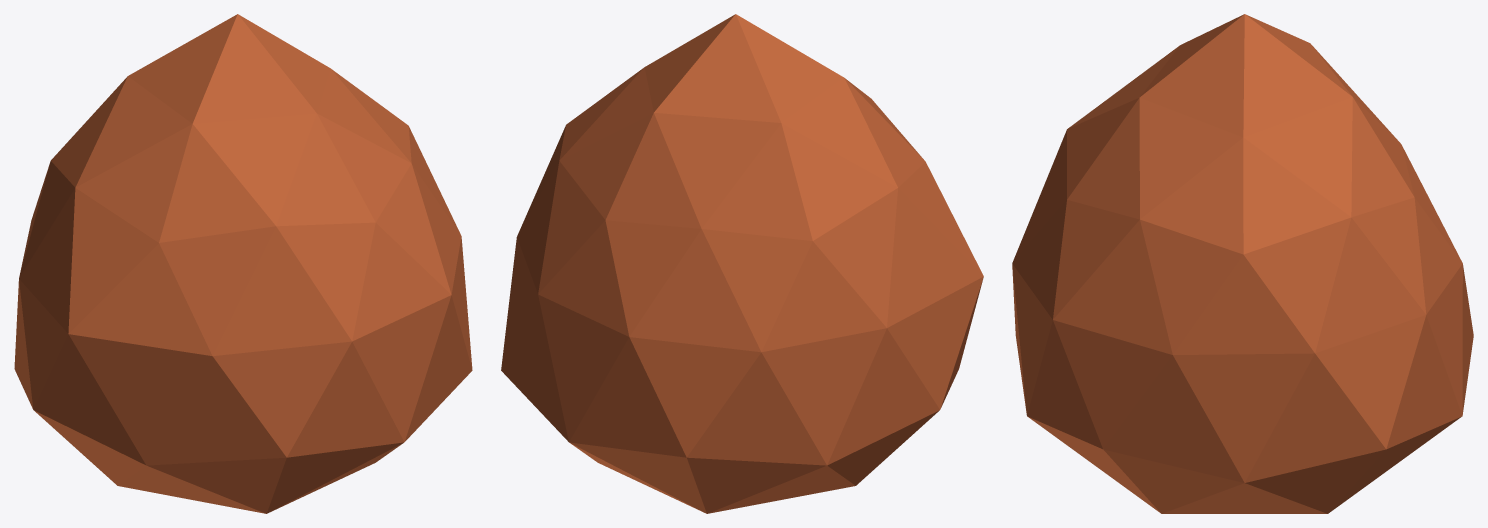
The model's file is Nut.fbx.
3 views of the same model, side by side, from view 1: azimuth 30°, elevation 25°; view 2: azimuth 150°, elevation 25°; view 3: azimuth 270°, elevation 25° (orthographic). The views are drawn at different scales.
Parts seen in each view (by area): view 1: Walnut_LOD0; view 2: Walnut_LOD0; view 3: Walnut_LOD0.
Boxes of the visible parts, box(x1,y1,x2,y2) form: Walnut_LOD0: box(14, 14, 472, 513); Walnut_LOD0: box(501, 14, 983, 513); Walnut_LOD0: box(1012, 14, 1473, 513).
Bounding box in the file's own units: 176 × 200 × 171.
